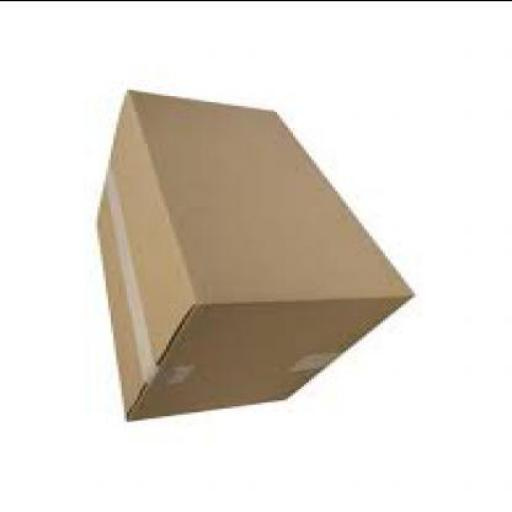cardboard: (96, 87, 410, 419), (126, 88, 412, 294), (121, 299, 412, 419)
